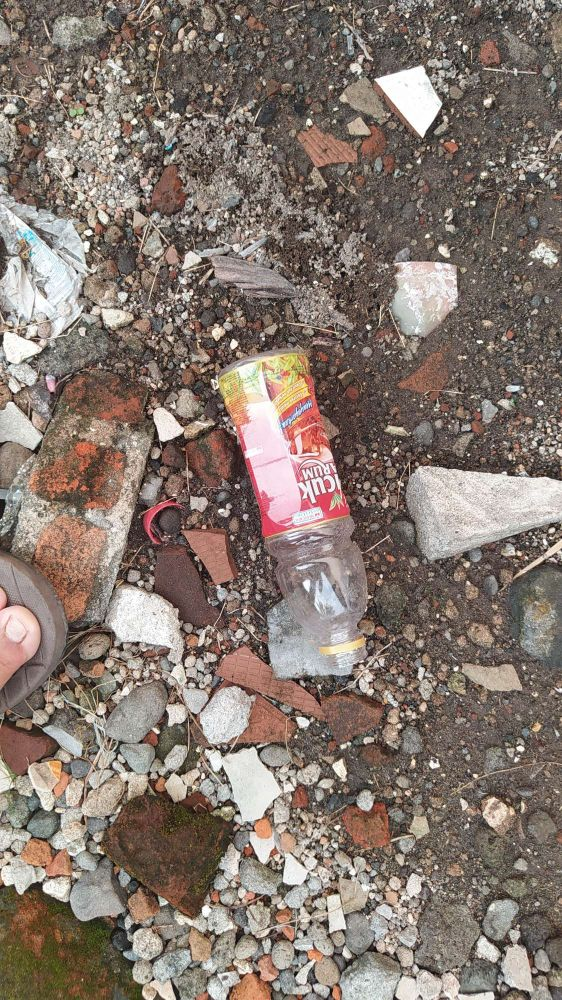botol: (191, 345, 399, 671)
